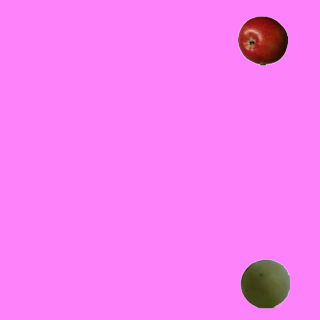Apple Braeburn: (237, 15, 287, 65)
Grape White 4: (239, 258, 289, 308)
